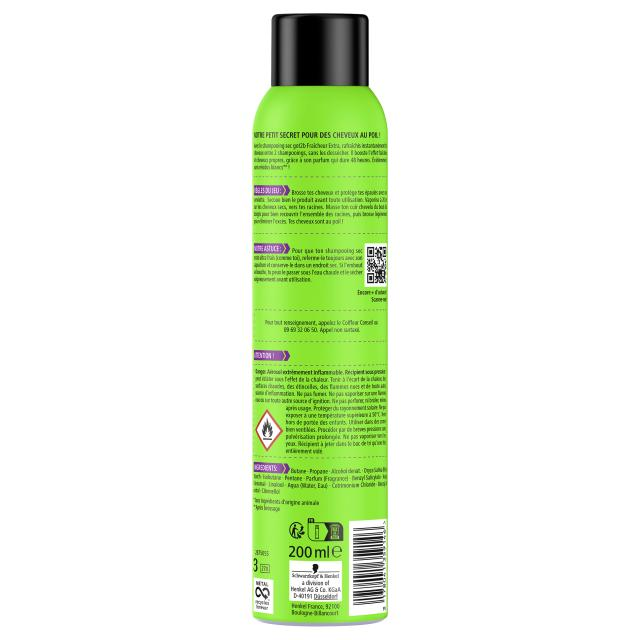GHS_Symbol_FLAME: (256, 410, 283, 452)
